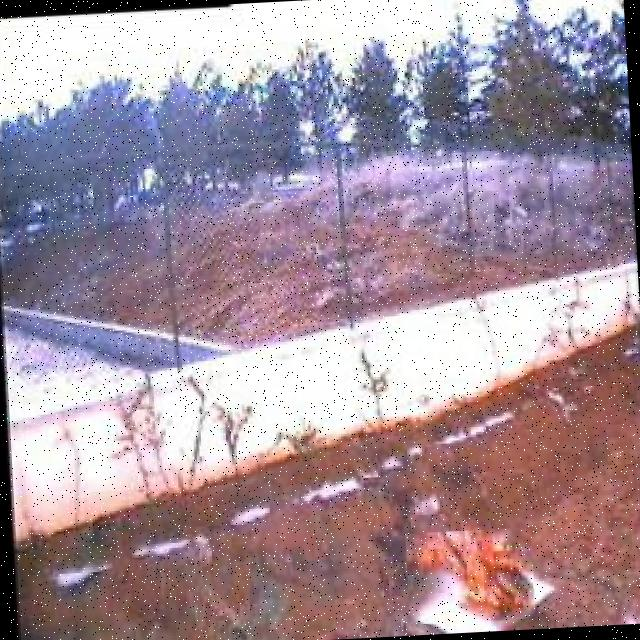fire: (405, 528, 536, 624)
